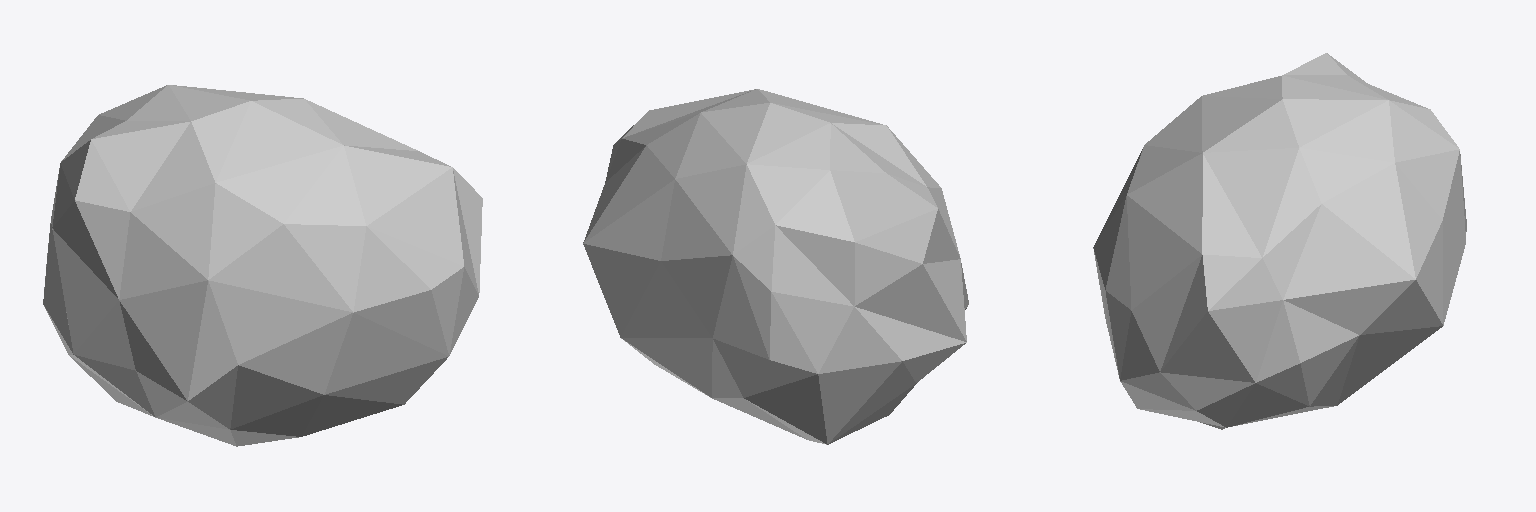
The model's file is rock.obj.
3 renders of one model, left to right at view 1: azimuth 30°, elevation 25°; view 2: azimuth 150°, elevation 25°; view 3: azimuth 270°, elevation 25°, orthographic.
Parts seen in each view (by area): view 1: Rock_Icosphere; view 2: Rock_Icosphere; view 3: Rock_Icosphere.
Boxes of the visible parts, x1,y1,x2,y2 form: Rock_Icosphere: [43, 85, 482, 446]; Rock_Icosphere: [583, 89, 968, 444]; Rock_Icosphere: [1093, 53, 1466, 429].
Bounding box in the file's own units: 0.5968 × 0.4638 × 0.506.